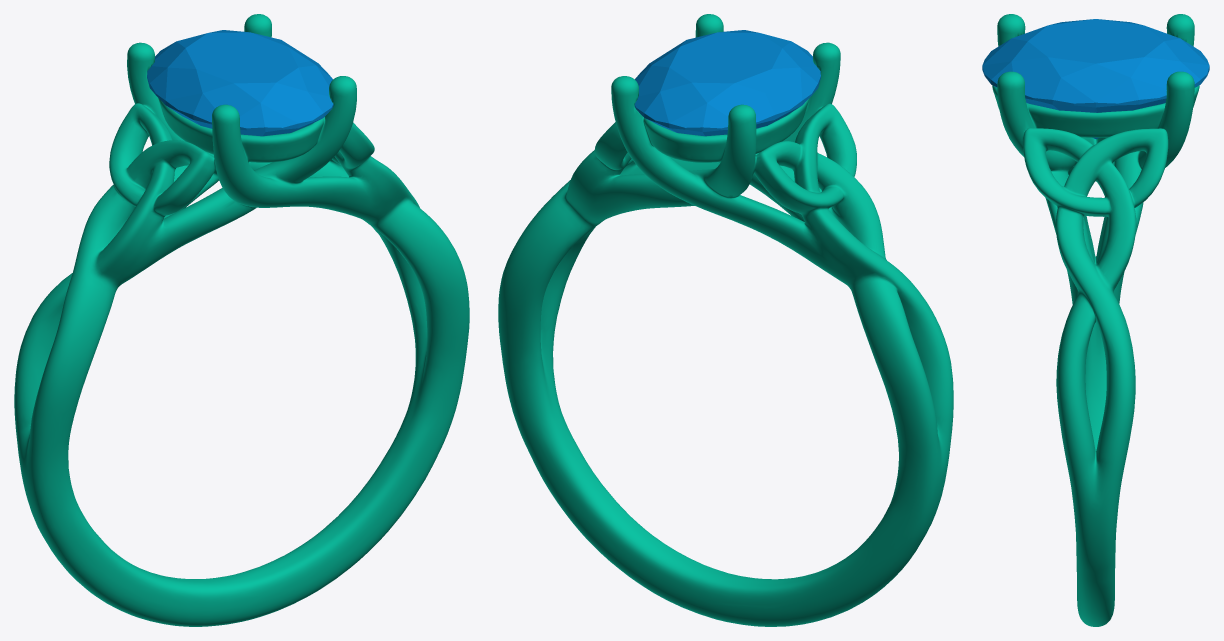
File: BE1131_OV_200ct_RENDER.glb
3 views of the same model, side by side, from view 1: azimuth 30°, elevation 25°; view 2: azimuth 150°, elevation 25°; view 3: azimuth 270°, elevation 25° (orthographic).
Parts seen in each view (by area): view 1: Metal 01, CS_Diamond_Oval; view 2: Metal 01, CS_Diamond_Oval; view 3: Metal 01, CS_Diamond_Oval.
Boxes of the visible parts, box(x1,y1,x2,y2) form: Metal 01: box(14, 14, 469, 626); CS_Diamond_Oval: box(147, 30, 333, 136); Metal 01: box(498, 14, 953, 626); CS_Diamond_Oval: box(634, 30, 820, 136); Metal 01: box(992, 14, 1199, 626); CS_Diamond_Oval: box(982, 19, 1209, 139).
Bounding box in the file's own units: 19.94 × 24.59 × 9.
